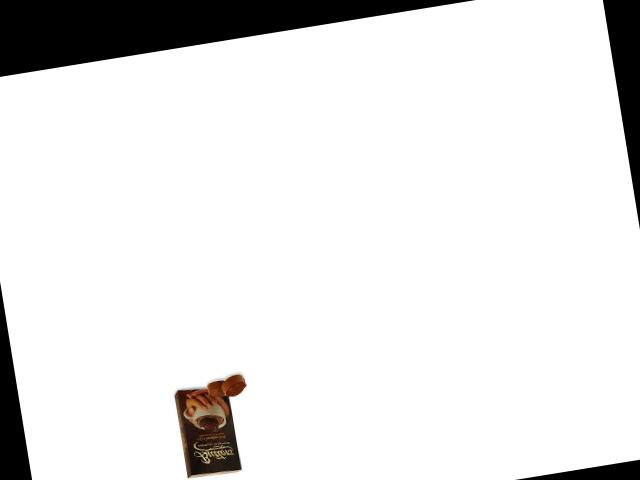chocolate: (169, 378, 250, 480)
